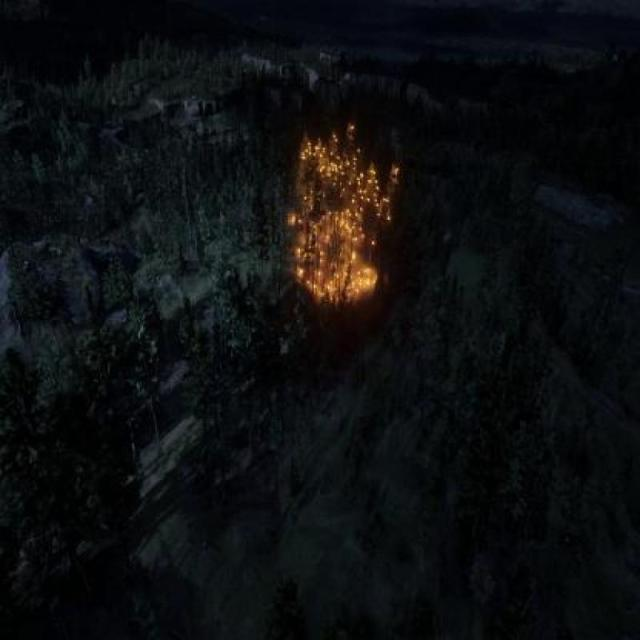Fire: (288, 116, 404, 306)
